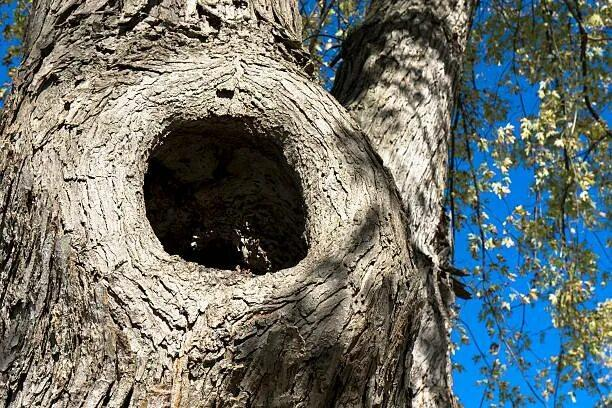hollow: (144, 119, 307, 273)
